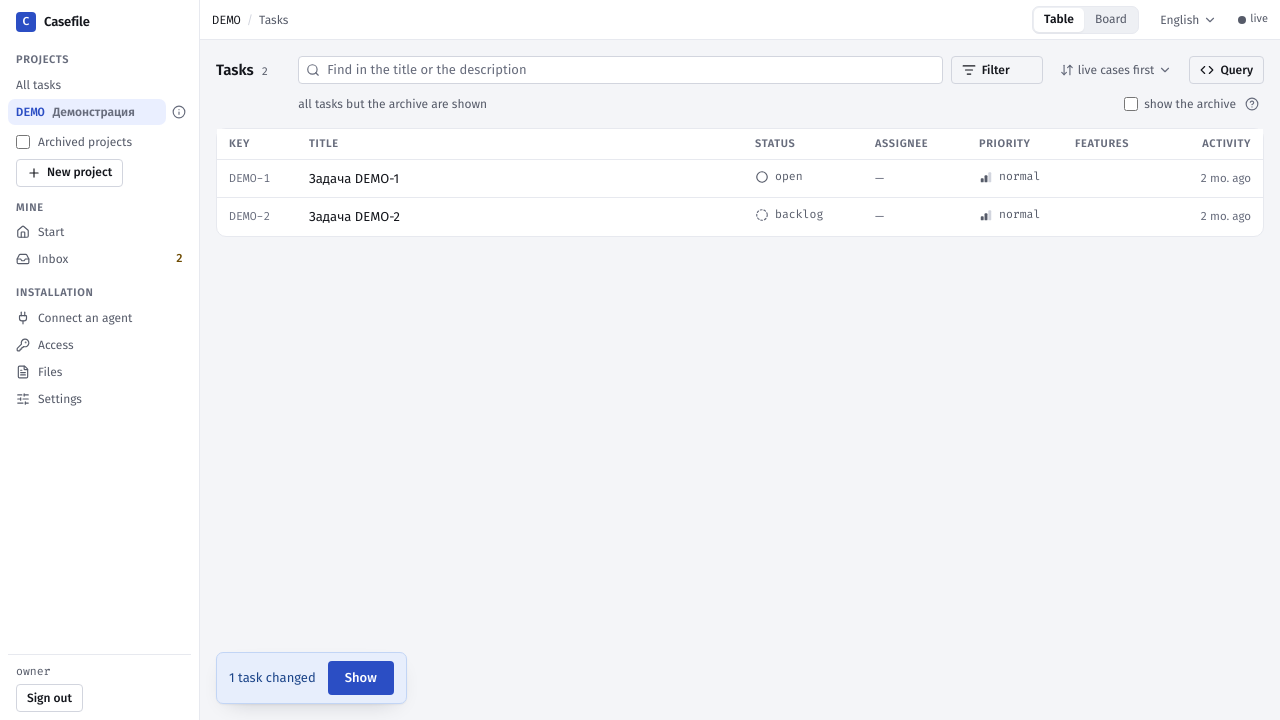
Test: полоса над таблицей считает с последнего чтения таблицы › кадр во время чтения по «Показать» тоже остаётся в полосе
Expected: the column heading "DEMO-1" is shown, [217,160,297,198]
Click the button "Show" at (361, 678), box [328,661,394,695]
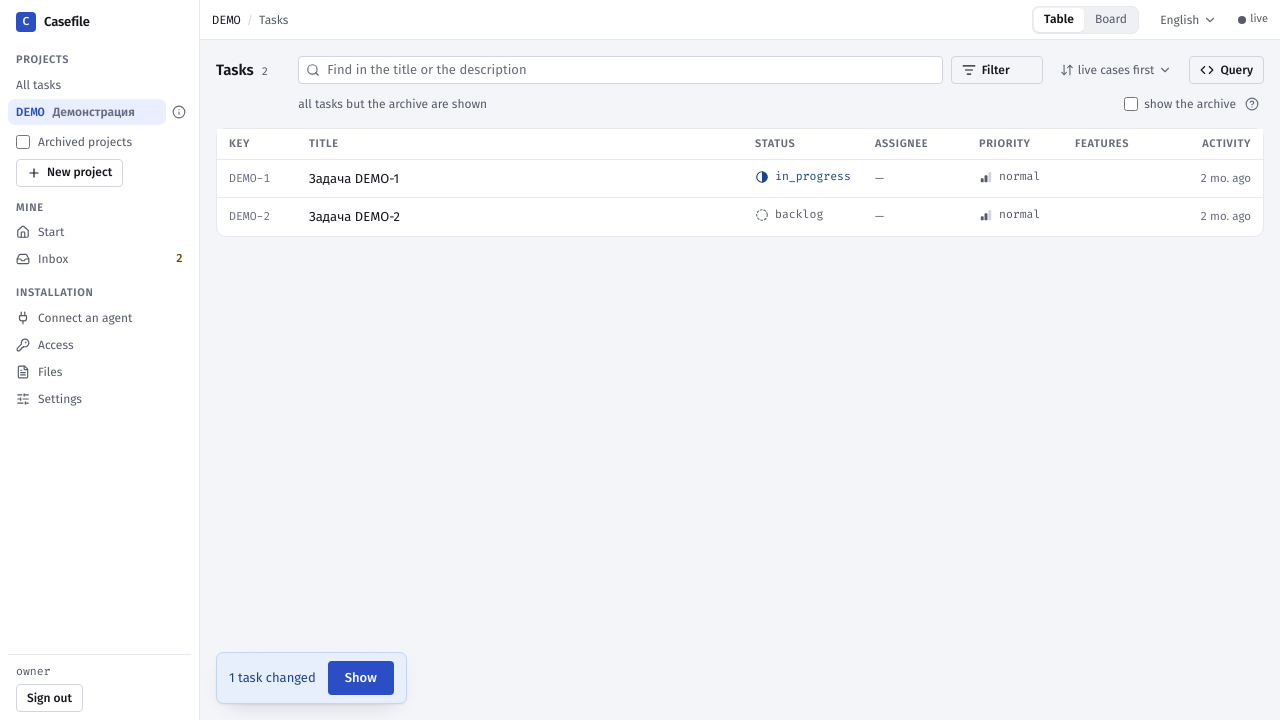
Expected: the text "backlog" is shown, [775,206,823,224]
Expected: the text "in_progress" is shown, [775,168,851,185]
